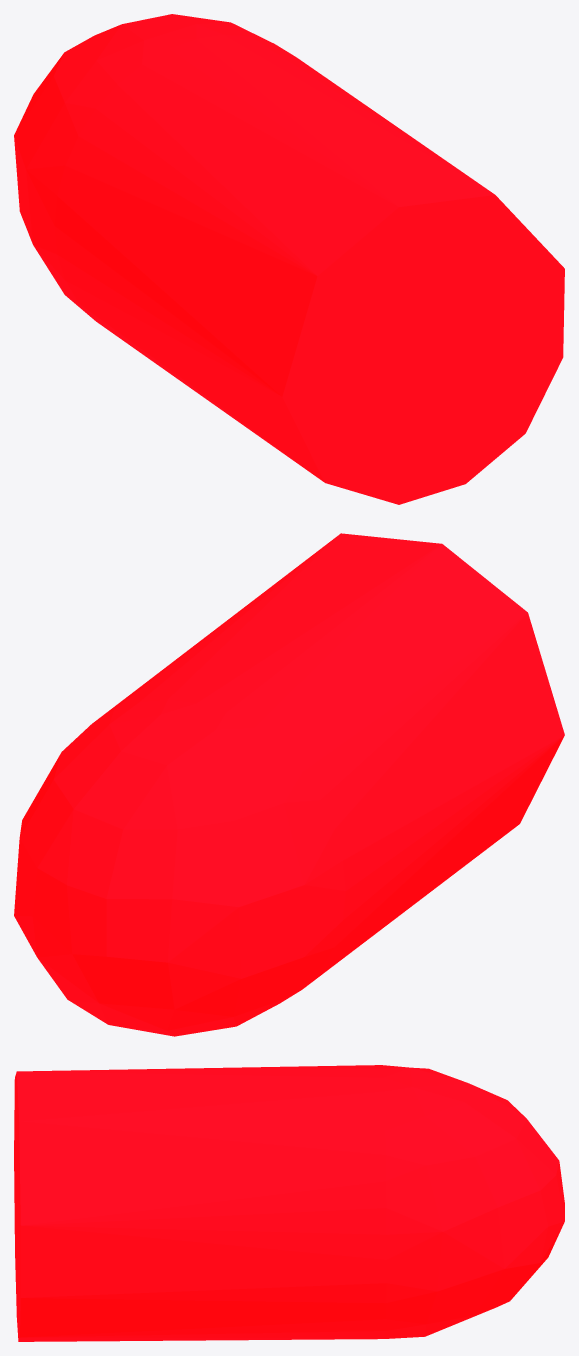
File: bullet.fbx
The picture shows the model from 3 angles, top to bottom: view 1: azimuth 30°, elevation 25°; view 2: azimuth 150°, elevation 25°; view 3: azimuth 270°, elevation 25°; orthographic projection. The views are drawn at different scales.
Visible parts, largest first — view 1: Sphere; view 2: Sphere; view 3: Sphere.
Part boxes in pixels (x1,y1,x2,y2): Sphere: [14, 14, 564, 504]; Sphere: [14, 533, 564, 1036]; Sphere: [14, 1065, 564, 1341].
Bounding box in the file's own units: 1.53 × 3.01 × 1.5.
